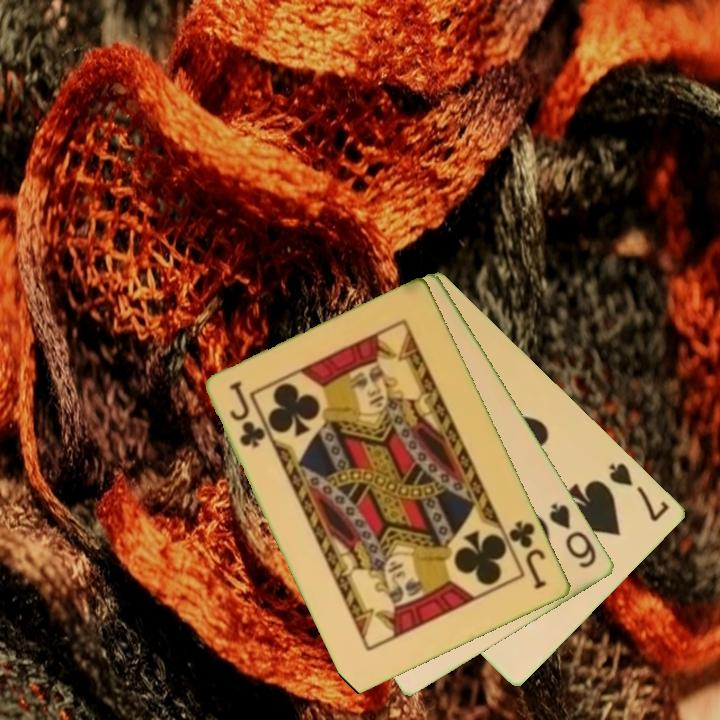6s: (546, 499, 600, 572)
7s: (606, 459, 673, 525)
Jc: (505, 517, 550, 593), (226, 378, 269, 451)
